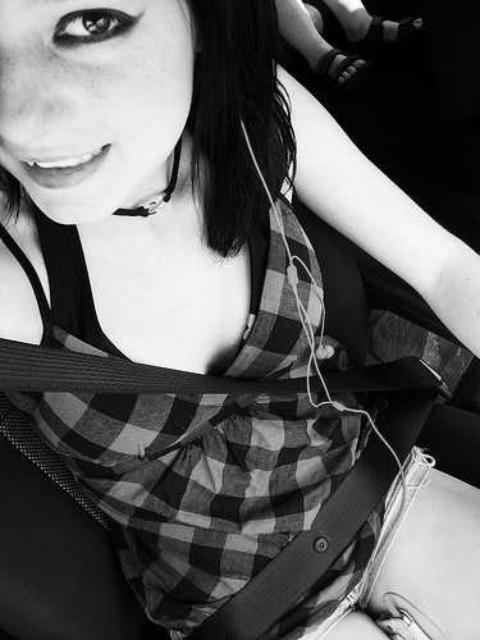SafeDriving: (39, 0, 145, 52)
Seatbelt: (0, 326, 441, 638)
